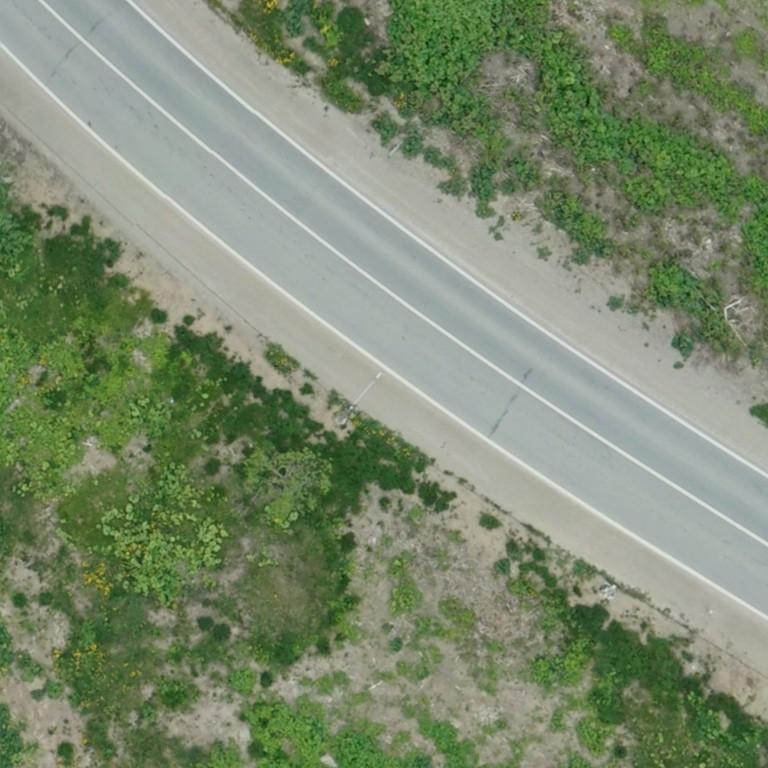hogweed: (378, 0, 742, 216), (246, 706, 426, 767), (649, 263, 716, 313), (744, 177, 767, 289)
